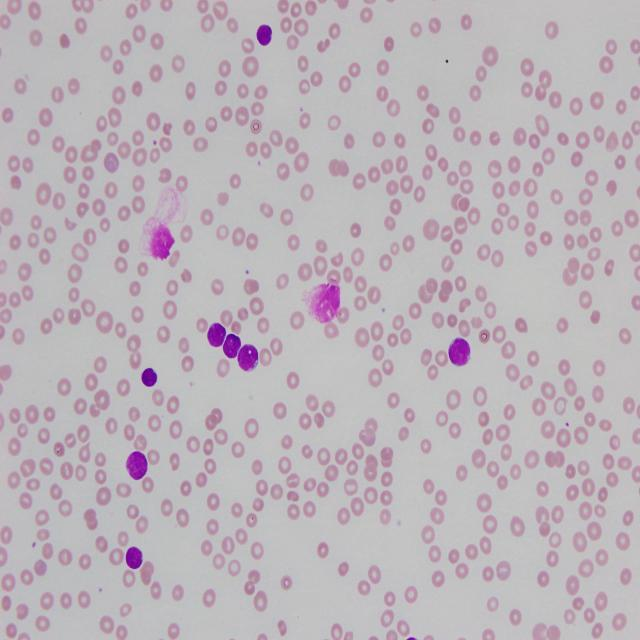cell: (126, 452, 148, 480), (449, 338, 470, 367), (238, 345, 259, 372), (222, 333, 241, 358), (208, 323, 226, 347), (125, 547, 142, 569), (141, 368, 158, 387), (256, 25, 272, 45)
